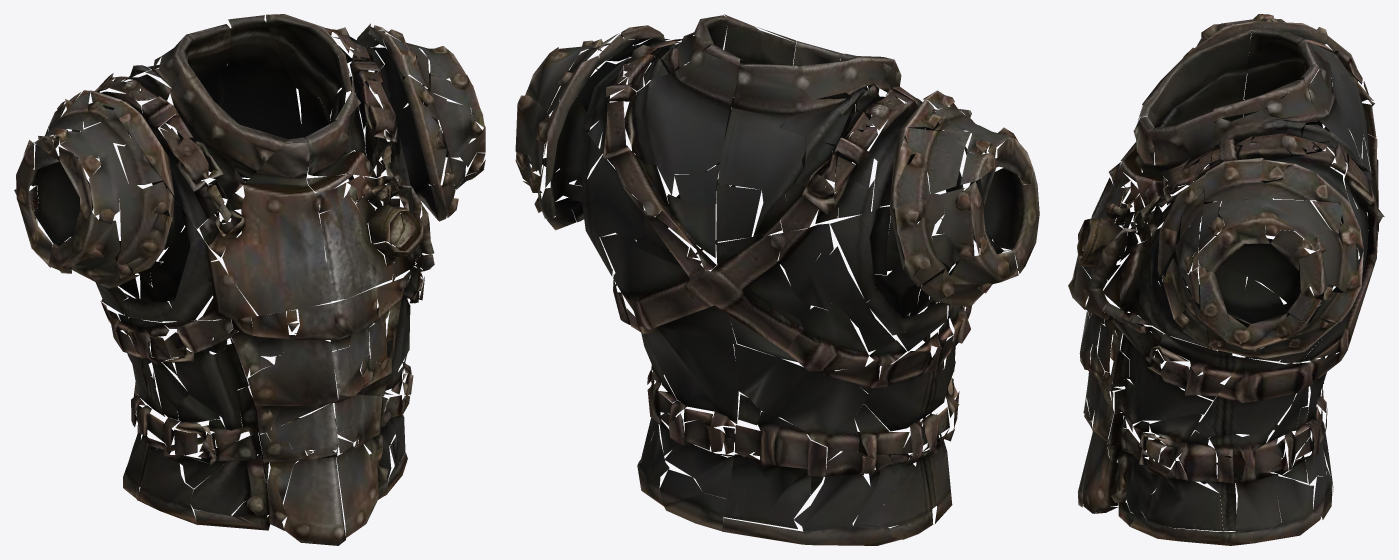
Rendered from a_sluice_cuirass.glb.
The picture shows the model from 3 angles, left to right: view 1: azimuth 30°, elevation 25°; view 2: azimuth 150°, elevation 25°; view 3: azimuth 270°, elevation 25°; orthographic projection. The views are drawn at different scales.
Parts seen in each view (by area): view 1: tripo_node_2c596889-d8e8-4e9b-8757-3bf3b76ae3bd; view 2: tripo_node_2c596889-d8e8-4e9b-8757-3bf3b76ae3bd; view 3: tripo_node_2c596889-d8e8-4e9b-8757-3bf3b76ae3bd.
Boxes of the visible parts, x1,y1,x2,y2 form: tripo_node_2c596889-d8e8-4e9b-8757-3bf3b76ae3bd: (14, 14, 485, 545); tripo_node_2c596889-d8e8-4e9b-8757-3bf3b76ae3bd: (515, 14, 1039, 545); tripo_node_2c596889-d8e8-4e9b-8757-3bf3b76ae3bd: (1068, 14, 1384, 545).
Size of the model in its own units: 0.5012 by 0.4995 by 0.3213.
Materials: 1 (1 with a texture image).
